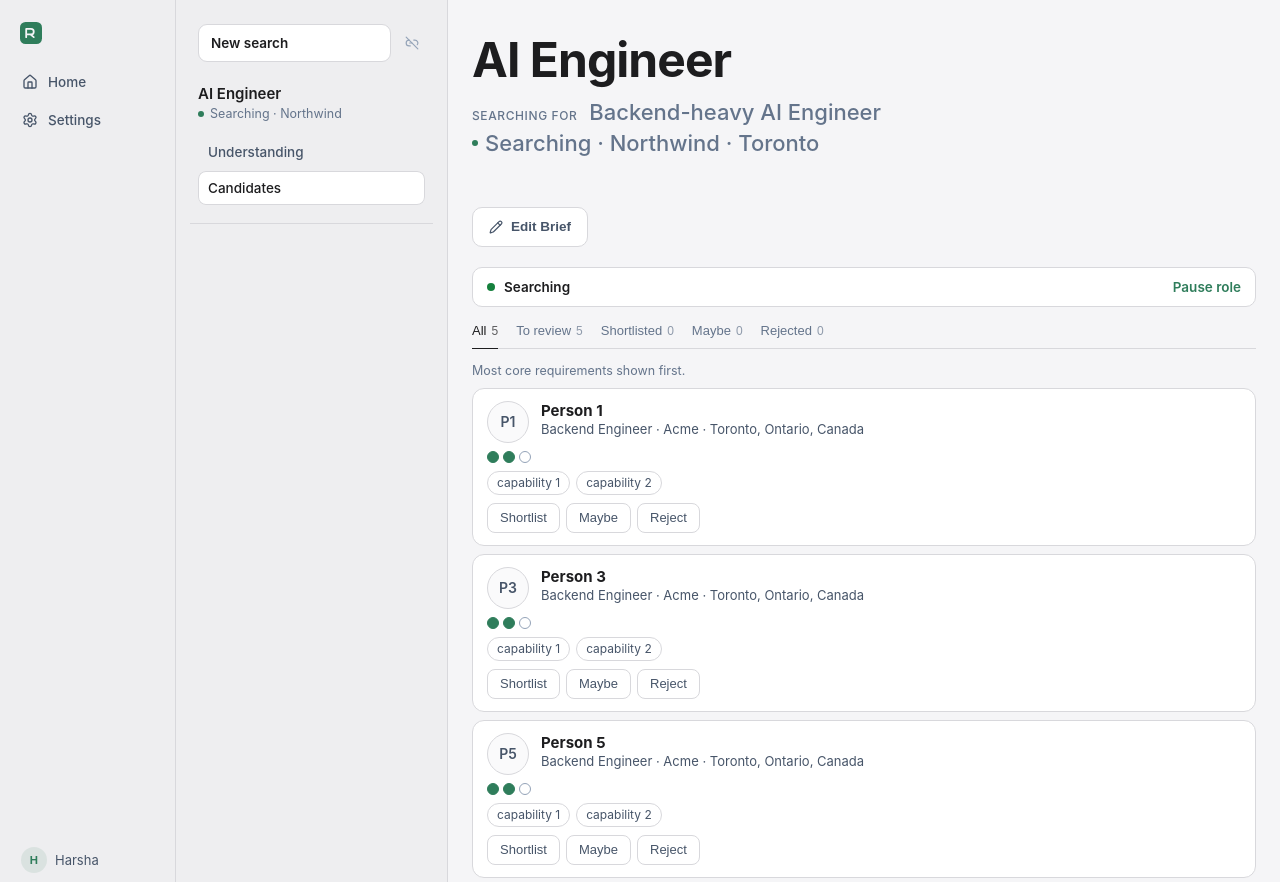
Test case: the sidebar and switching between searches › New search opens a blank form without touching the open search, and Build brief needs a boundary
Click the button "New search" at (294, 43), box top-left (198, 24), bottom-right (391, 62)
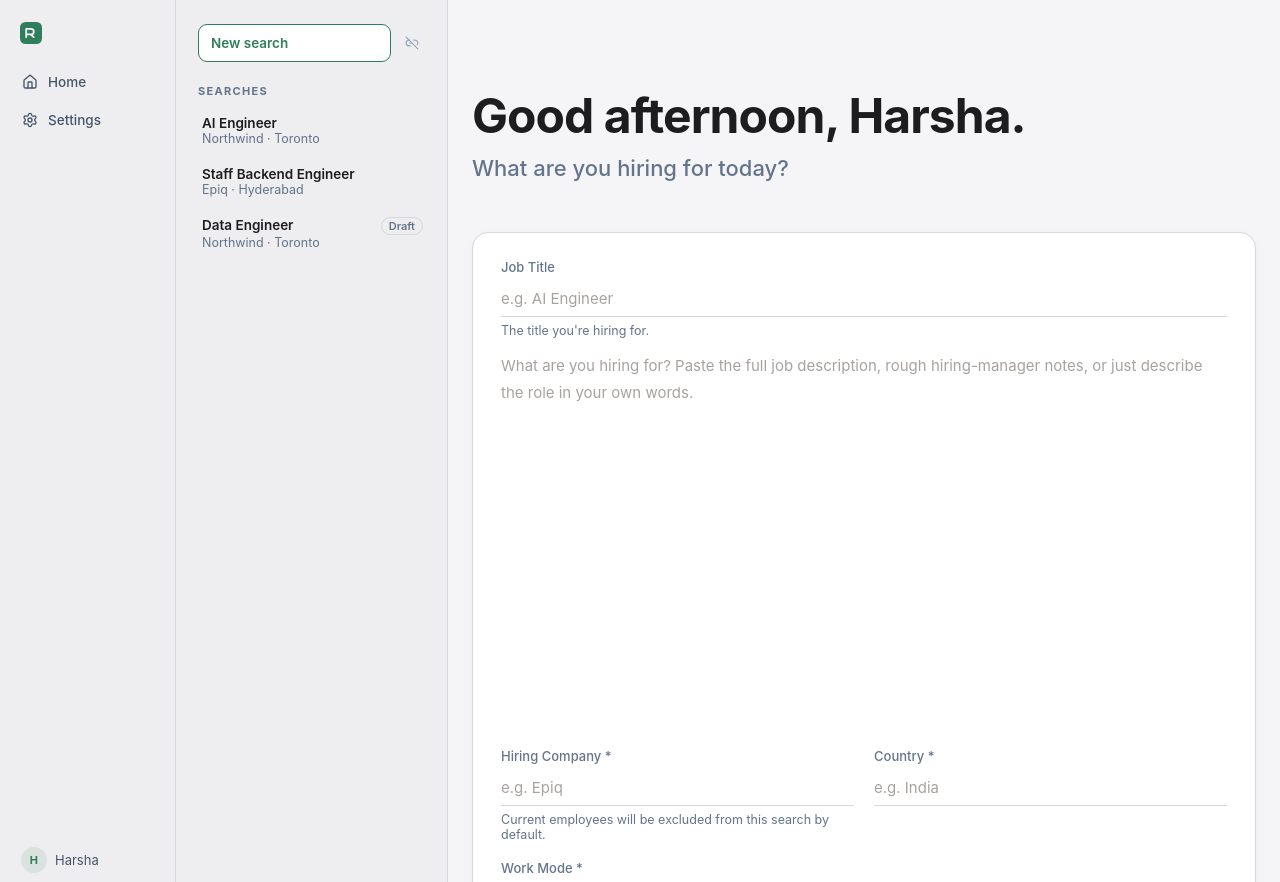
Check: the field labelled "Job Title" is empty, box top-left (501, 281), bottom-right (1227, 317)
Click the button with class "app-sidebar__item" that starts with "AI Engineer" at (312, 130), box top-left (190, 106), bottom-right (433, 155)
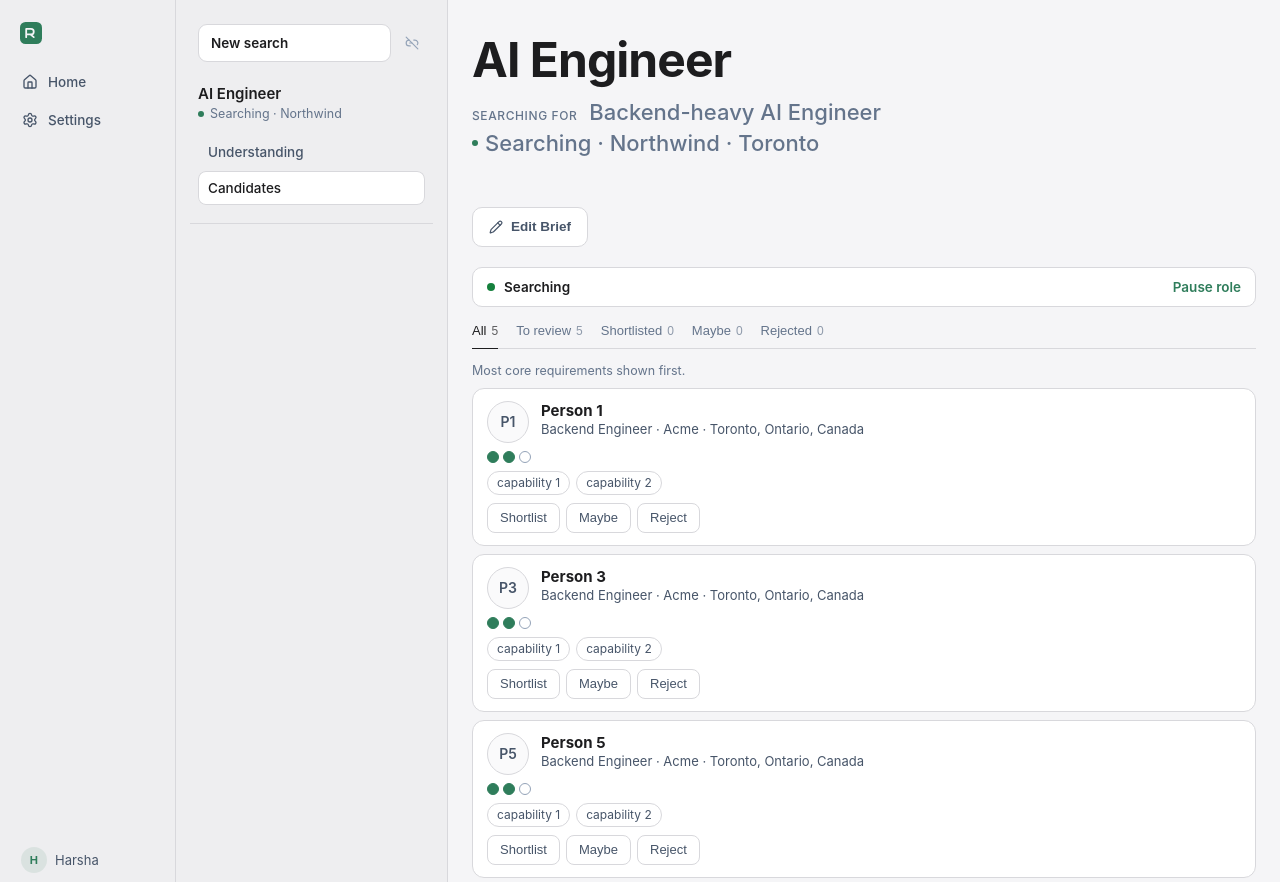
Check: the heading "AI Engineer" is shown, box top-left (472, 30), bottom-right (731, 89)
